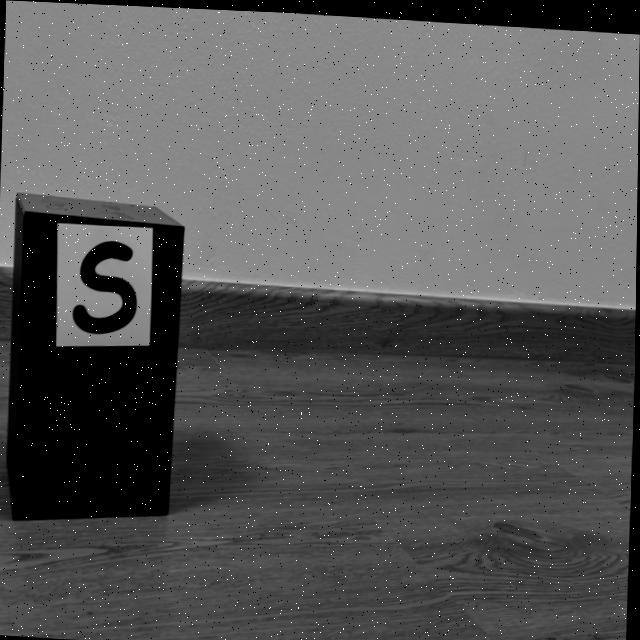S: (74, 240, 137, 332)
